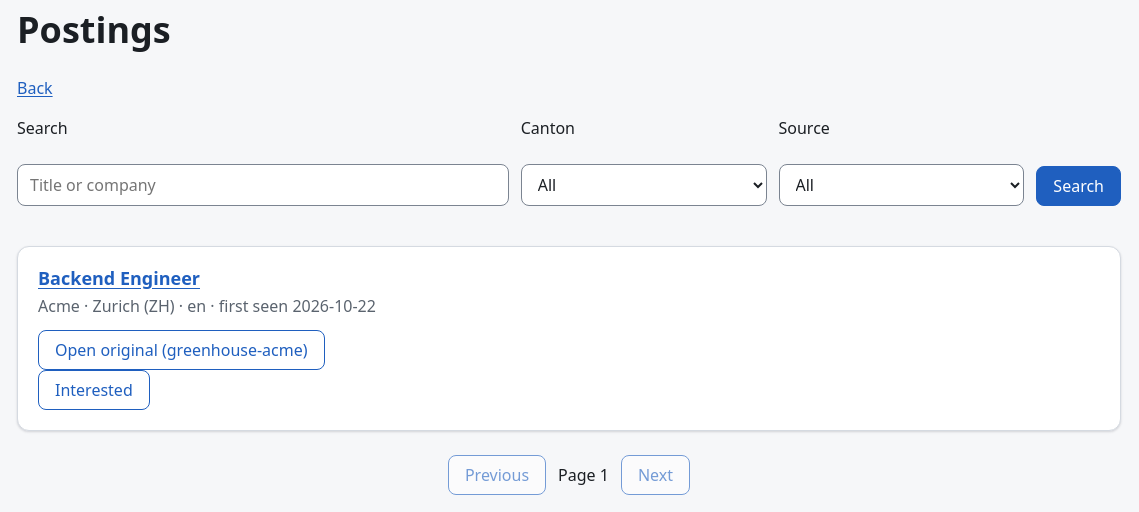
Test: the Interested action › marks a posting interested from the list and shows the stage with a link
Click the button "Interested" at (94, 390), box [38,370,150,410]
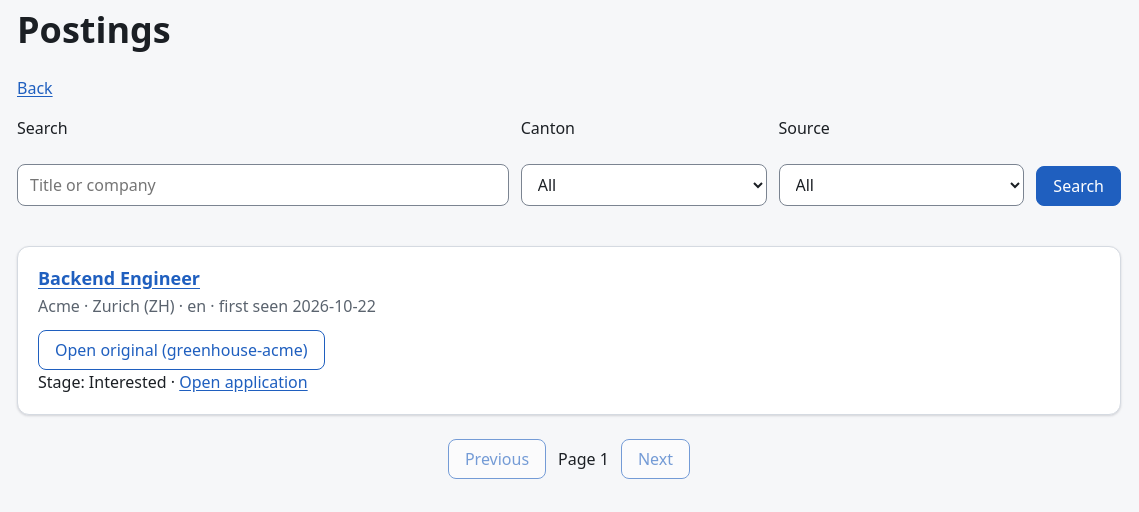
Check: the text "Stage: Interested · Open application" is shown, box [38,370,308,392]
